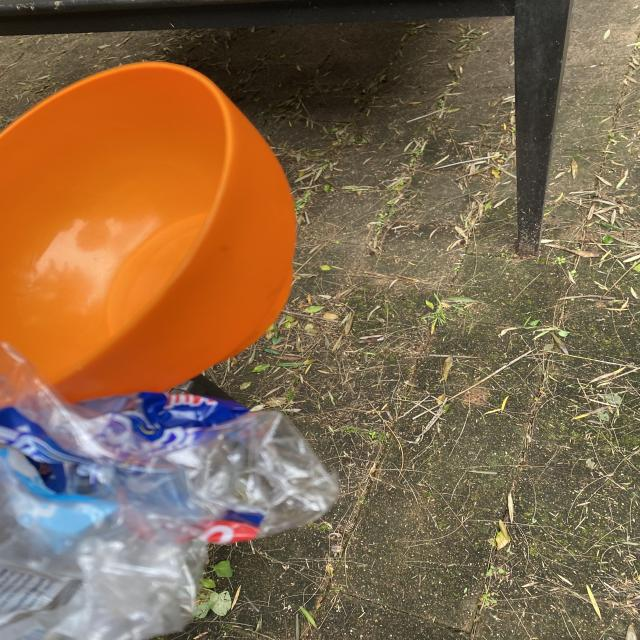wrappers: (0, 62, 301, 409), (0, 343, 341, 640)
